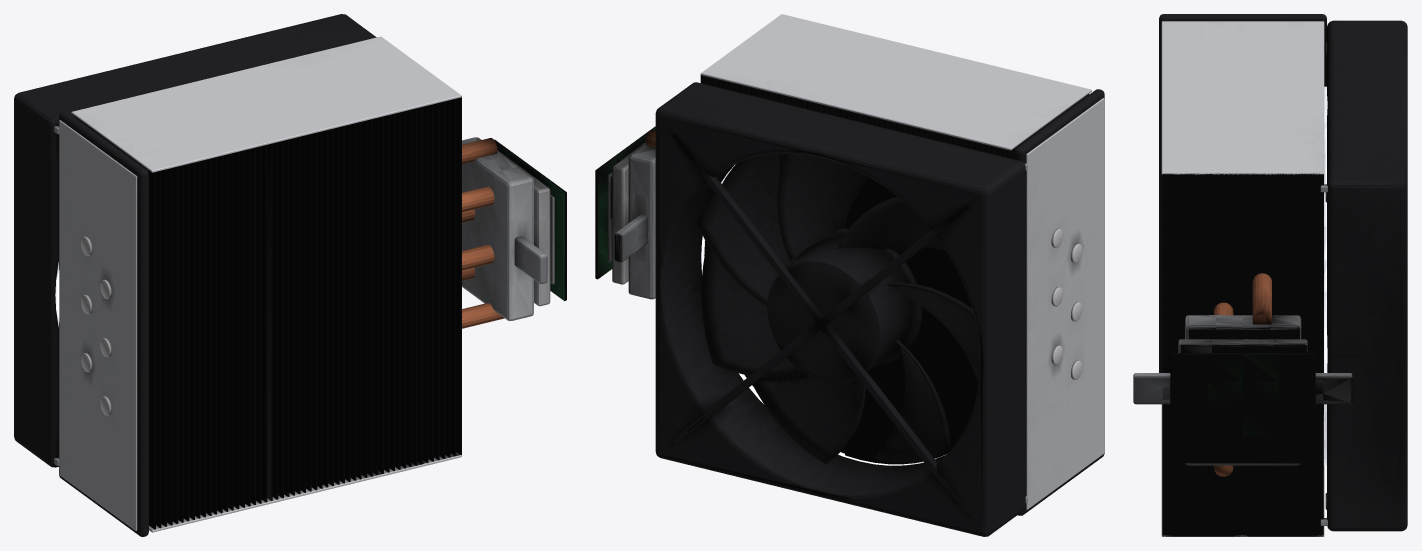
Rendered from cpu.glb.
3 views of the same model, side by side, from view 1: azimuth 30°, elevation 25°; view 2: azimuth 150°, elevation 25°; view 3: azimuth 270°, elevation 25° (orthographic).
Visible parts, largest first — view 1: X_cpu; view 2: X_cpu; view 3: X_cpu.
Part boxes in pixels (x1,y1,x2,y2): X_cpu: [14, 14, 566, 536]; X_cpu: [595, 14, 1104, 536]; X_cpu: [1133, 14, 1407, 536].
Bounding box in the file's own units: 0.1574 × 0.126 × 0.085.
